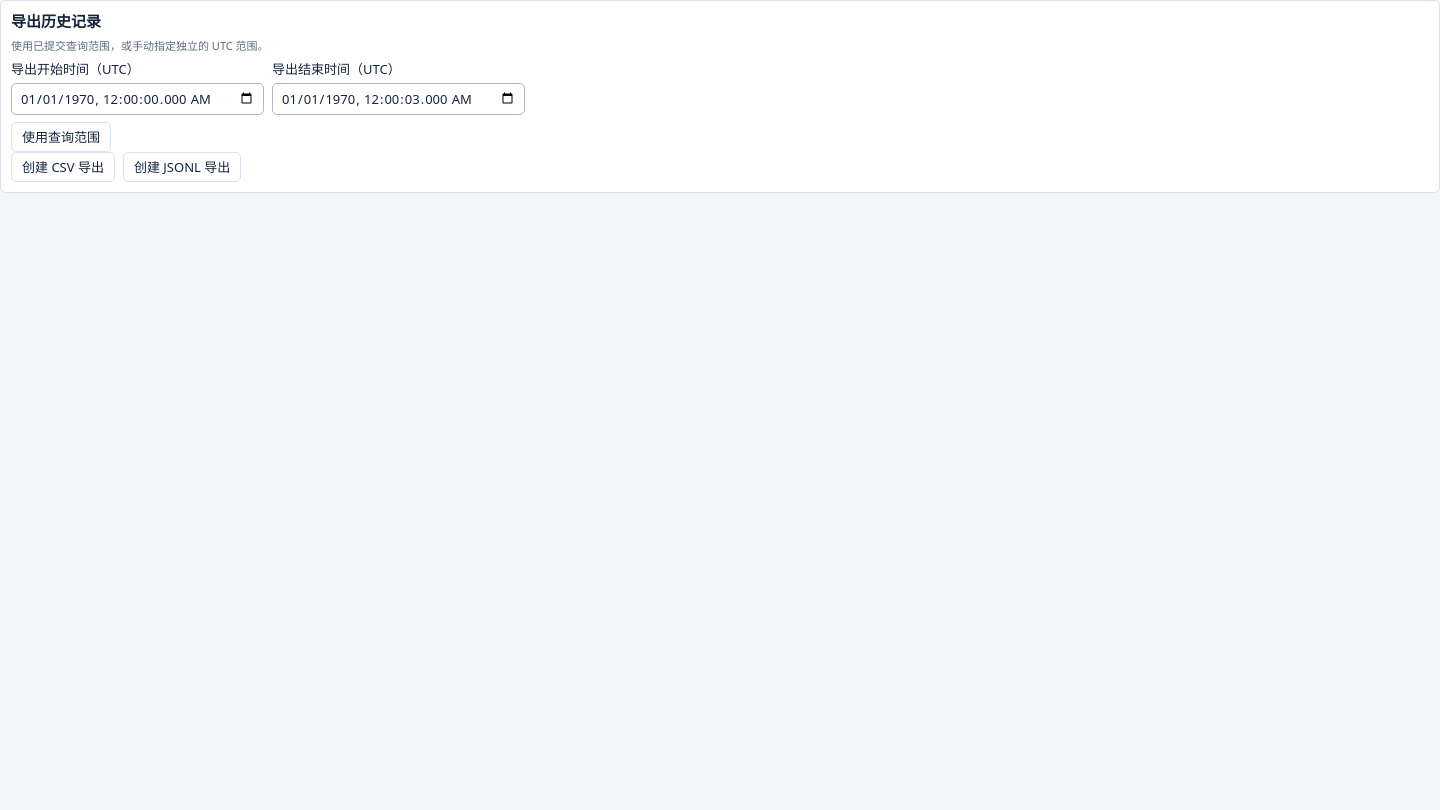
Test: cancels via the Cancel button without creating
What coordinates should you click on to do the following:
click the button "创建 JSONL 导出"
I would click on:
 (182, 167)
Its box is top-left (123, 152), bottom-right (241, 182).
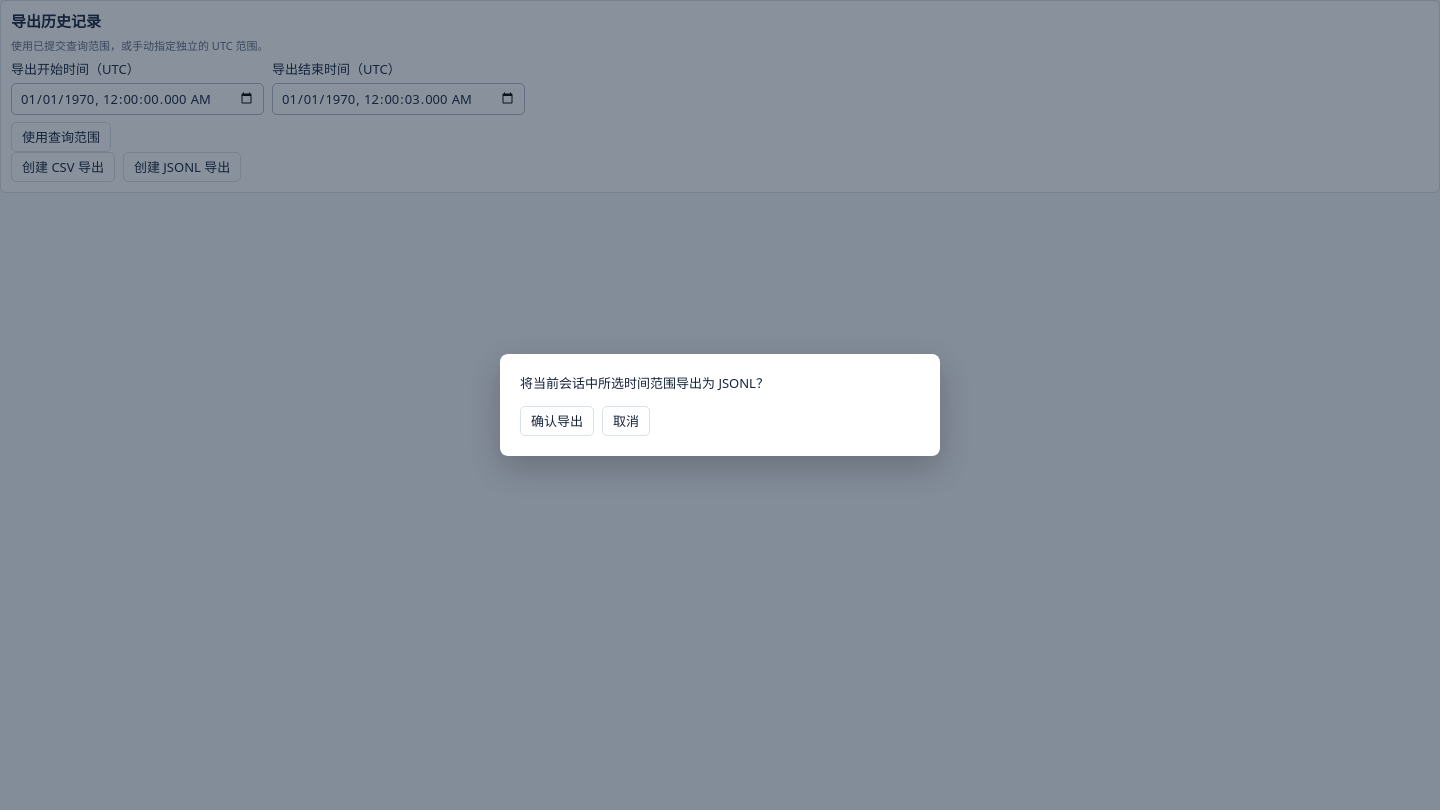
What coordinates should you click on to do the following:
click the button "取消"
I would click on:
 (626, 421)
Its box is top-left (602, 406), bottom-right (650, 436).
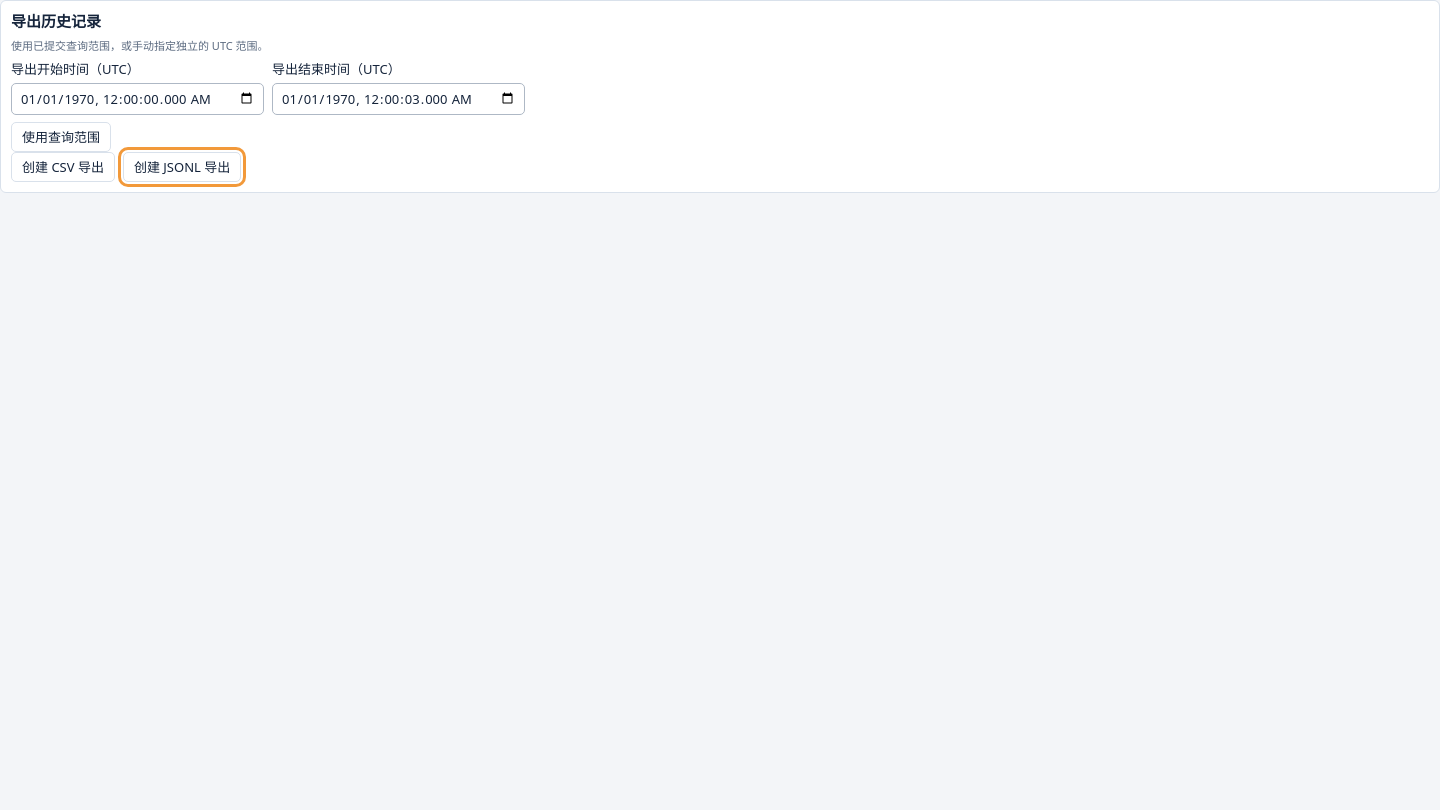
Expected: the dialog "确认历史导出" is gone
